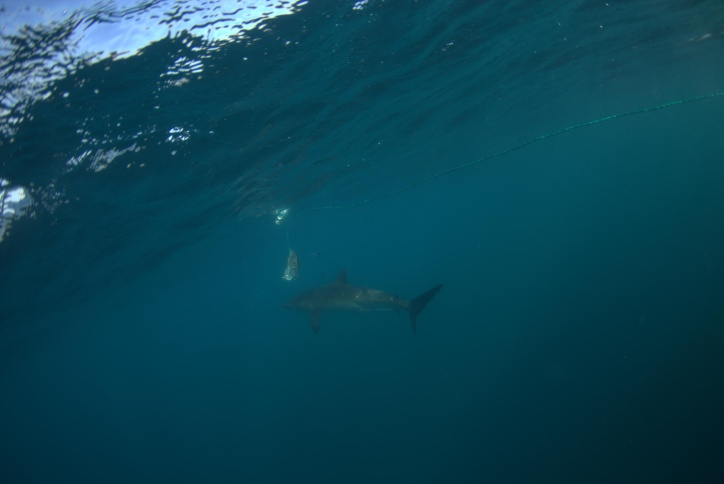Sedoso: (257, 265, 447, 339)
